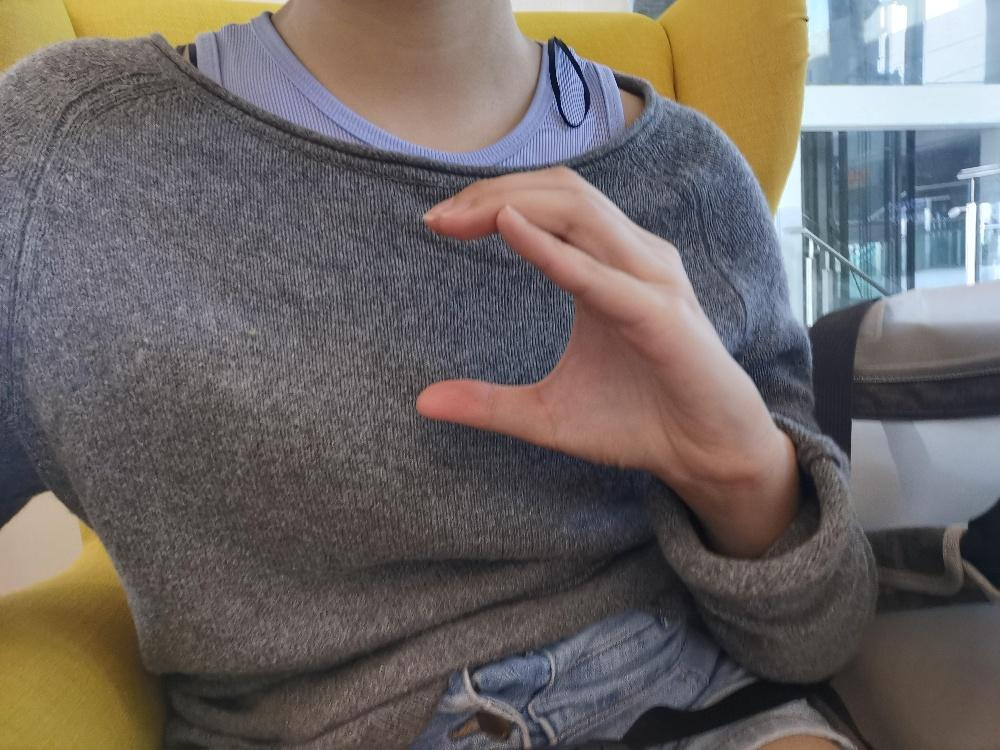c: (412, 161, 772, 483)
